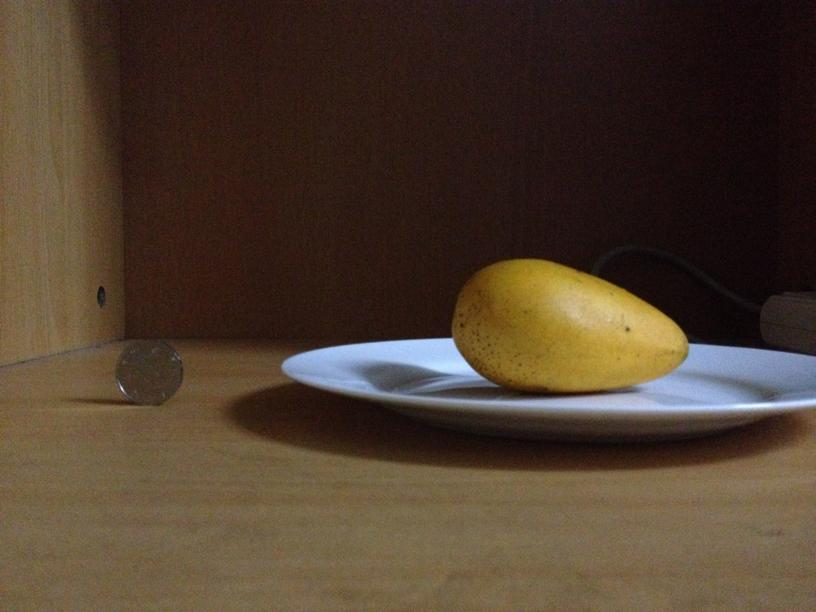coin: (113, 336, 182, 405)
mango: (448, 259, 691, 392)
